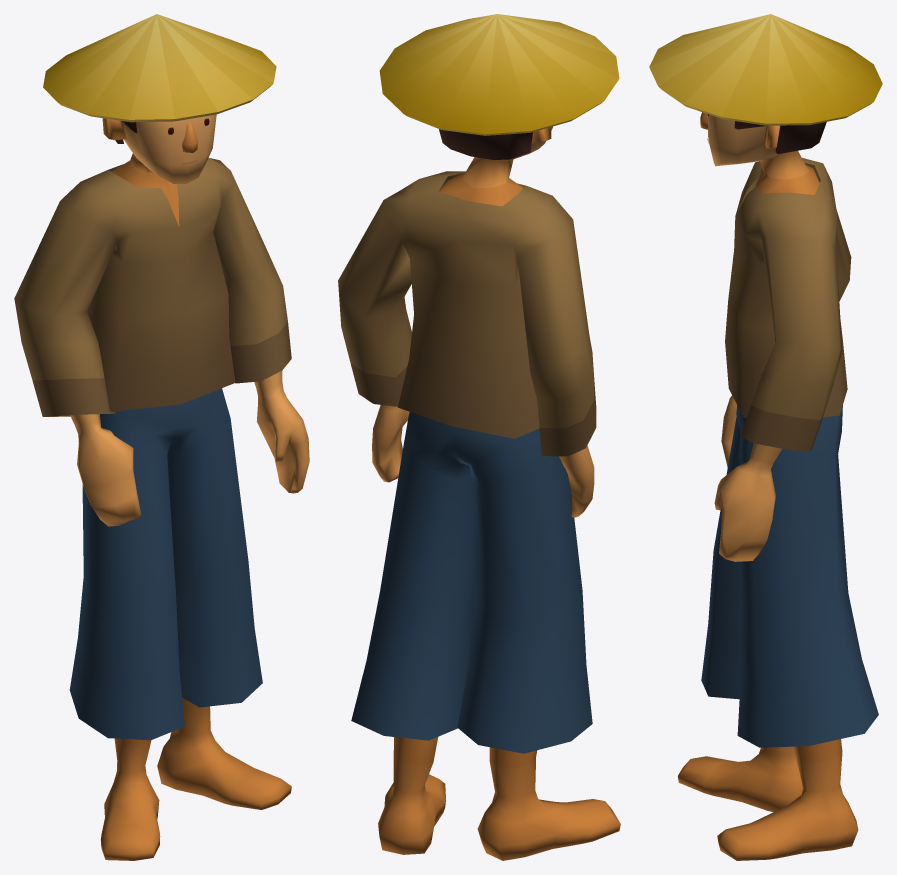
The model's file is SM_BG_NPC_07.fbx.
3 renders of one model, left to right at view 1: azimuth 30°, elevation 25°; view 2: azimuth 150°, elevation 25°; view 3: azimuth 270°, elevation 25°, orthographic. The views are drawn at different scales.
Visible parts, largest first — view 1: SM_BG_NPC_07; view 2: SM_BG_NPC_07; view 3: SM_BG_NPC_07.
Boxes of the visible parts, x1,y1,x2,y2 form: SM_BG_NPC_07: (14, 14, 309, 860); SM_BG_NPC_07: (338, 14, 620, 860); SM_BG_NPC_07: (649, 14, 882, 860).
Size of the model in its own units: 0.5571 by 1.8 by 0.4775.
